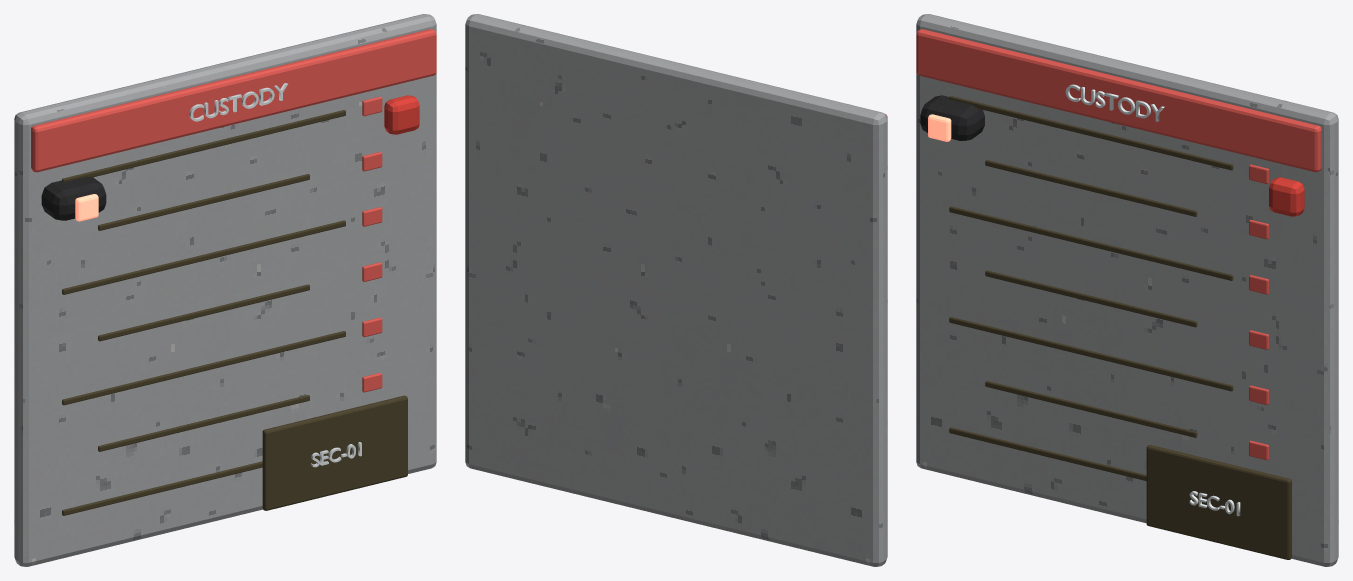
The model's file is decor_sec_mugshot_board.glb.
3 renders of one model, left to right at view 1: azimuth 30°, elevation 25°; view 2: azimuth 150°, elevation 25°; view 3: azimuth 330°, elevation 25°, orthographic.
Visible parts, largest first — view 1: DEC_SecMugshotBoard__Back, DEC_SecMugshotBoard__Header, DEC_SecMugshotBoard__Identity_Slate, DEC_SecMugshotBoard__Height_Line_3, DEC_SecMugshotBoard__Height_Line_5, DEC_SecMugshotBoard__Height_Line_7, DEC_SecMugshotBoard__Camera_Bracket, DEC_SecMugshotBoard__Height_Line_4, DEC_SecMugshotBoard__Height_Line_2, DEC_SecMugshotBoard__Height_Line_6, DEC_SecMugshotBoard__Height_Line_1, DEC_SecMugshotBoard__Evidence_Light (+2 smaller); view 2: DEC_SecMugshotBoard__Back; view 3: DEC_SecMugshotBoard__Back, DEC_SecMugshotBoard__Header, DEC_SecMugshotBoard__Identity_Slate, DEC_SecMugshotBoard__Height_Line_3, DEC_SecMugshotBoard__Height_Line_5, DEC_SecMugshotBoard__Height_Line_7, DEC_SecMugshotBoard__Camera_Bracket, DEC_SecMugshotBoard__Height_Line_2, DEC_SecMugshotBoard__Height_Line_4, DEC_SecMugshotBoard__Height_Line_6, DEC_SecMugshotBoard__Height_Line_1, DEC_SecMugshotBoard__Evidence_Light (+3 smaller).
Part boxes in pixels (x1=…): DEC_SecMugshotBoard__Back: x1=14, y1=14, x2=436, y2=566; DEC_SecMugshotBoard__Header: x1=31, y1=29, x2=436, y2=172; DEC_SecMugshotBoard__Identity_Slate: x1=262, y1=395, x2=407, y2=510; DEC_SecMugshotBoard__Height_Line_3: x1=62, y1=331, x2=345, y2=405; DEC_SecMugshotBoard__Height_Line_5: x1=62, y1=220, x2=345, y2=294; DEC_SecMugshotBoard__Height_Line_7: x1=62, y1=110, x2=345, y2=181; DEC_SecMugshotBoard__Camera_Bracket: x1=41, y1=176, x2=106, y2=220; DEC_SecMugshotBoard__Height_Line_4: x1=98, y1=284, x2=309, y2=341; DEC_SecMugshotBoard__Height_Line_2: x1=98, y1=395, x2=309, y2=451; DEC_SecMugshotBoard__Height_Line_6: x1=98, y1=174, x2=309, y2=230; DEC_SecMugshotBoard__Height_Line_1: x1=62, y1=461, x2=262, y2=515; DEC_SecMugshotBoard__Evidence_Light: x1=384, y1=95, x2=419, y2=134; DEC_SecMugshotBoard__Back: x1=465, y1=14, x2=887, y2=566; DEC_SecMugshotBoard__Back: x1=916, y1=14, x2=1338, y2=566; DEC_SecMugshotBoard__Header: x1=916, y1=29, x2=1321, y2=172; DEC_SecMugshotBoard__Identity_Slate: x1=1146, y1=445, x2=1291, y2=559; DEC_SecMugshotBoard__Height_Line_3: x1=949, y1=317, x2=1233, y2=391; DEC_SecMugshotBoard__Height_Line_5: x1=949, y1=206, x2=1233, y2=280; DEC_SecMugshotBoard__Height_Line_7: x1=949, y1=96, x2=1233, y2=170; DEC_SecMugshotBoard__Camera_Bracket: x1=920, y1=95, x2=984, y2=140; DEC_SecMugshotBoard__Height_Line_2: x1=985, y1=381, x2=1197, y2=437; DEC_SecMugshotBoard__Height_Line_4: x1=985, y1=270, x2=1197, y2=327; DEC_SecMugshotBoard__Height_Line_6: x1=985, y1=160, x2=1197, y2=216; DEC_SecMugshotBoard__Height_Line_1: x1=949, y1=427, x2=1146, y2=480; DEC_SecMugshotBoard__Evidence_Light: x1=1269, y1=177, x2=1304, y2=216.
Bounding box in the file's own units: 1.74 × 1.8 × 0.233.
7 materials, 2 textured.
